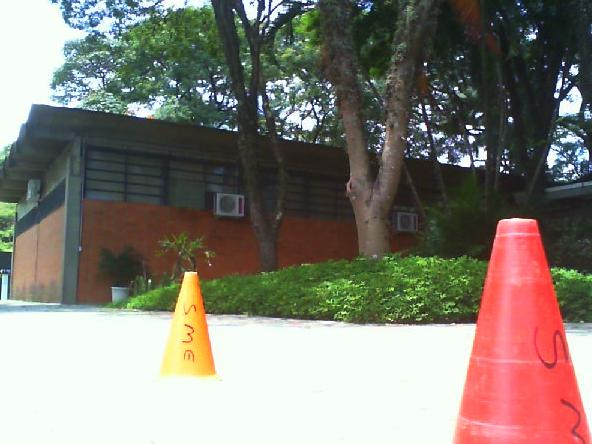0 cone: (443, 219, 592, 444), (159, 272, 218, 382)
